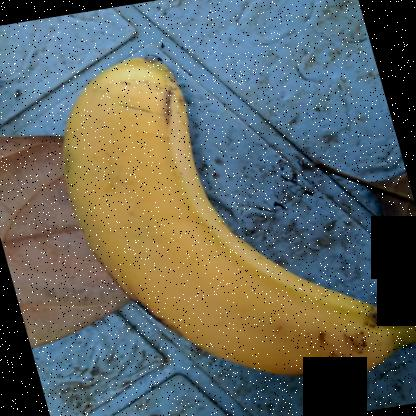freshripe: (65, 55, 415, 391)
